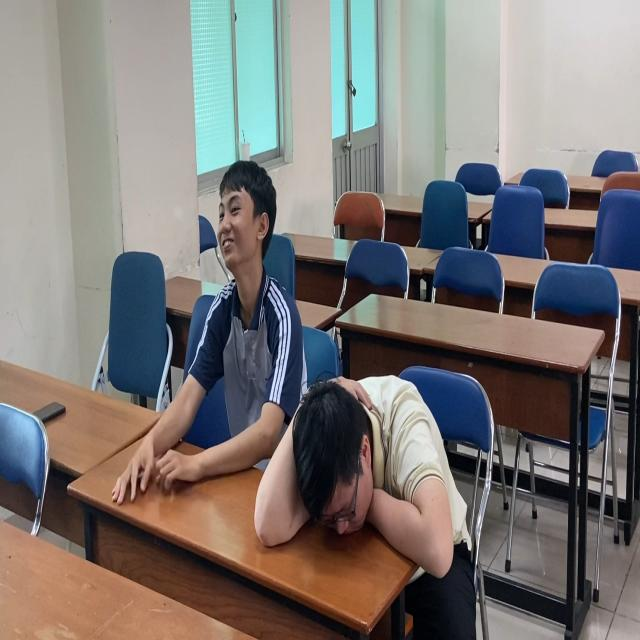sleep: (255, 361, 470, 580)
